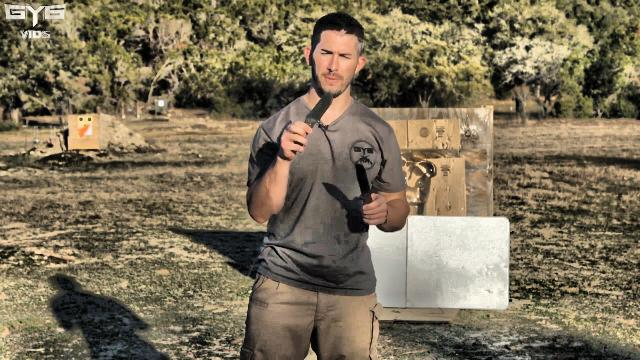knife: (284, 82, 336, 148), (349, 158, 385, 226)
